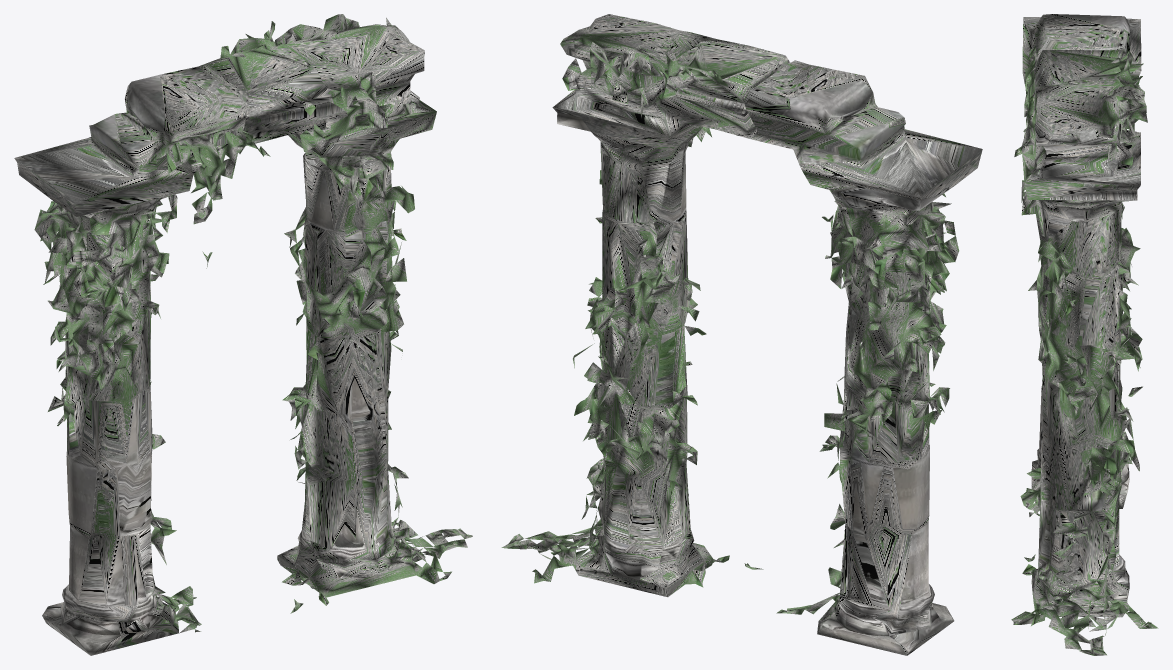
Rendered from archway.glb.
The picture shows the model from 3 angles, left to right: view 1: azimuth 30°, elevation 25°; view 2: azimuth 150°, elevation 25°; view 3: azimuth 270°, elevation 25°; orthographic projection. The views are drawn at different scales.
Visible parts, largest first — view 1: output_unwrapped; view 2: output_unwrapped; view 3: output_unwrapped.
Part boxes in pixels (left/top/right/bottom): output_unwrapped: left=14, top=14, right=472, bottom=655; output_unwrapped: left=501, top=14, right=982, bottom=655; output_unwrapped: left=1011, top=14, right=1158, bottom=655.
Size of the model in its own units: 1.57 by 1.9 by 0.4924.
1 material, 1 textured.
